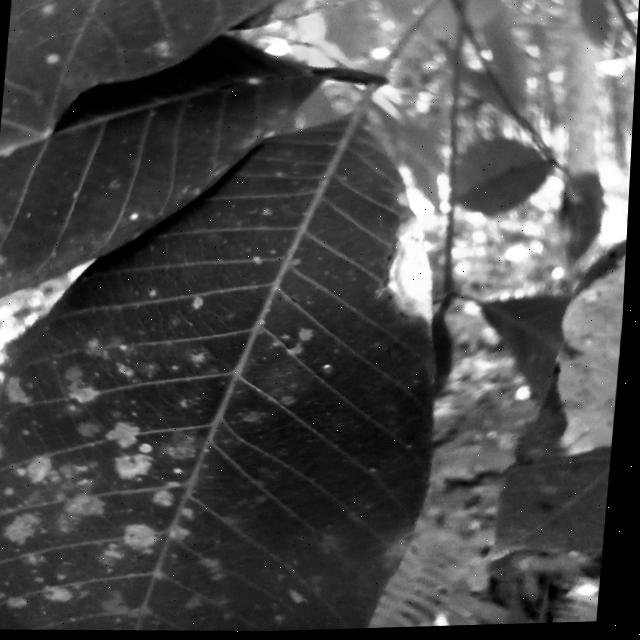Leaf-Blight: (385, 217, 444, 325)
